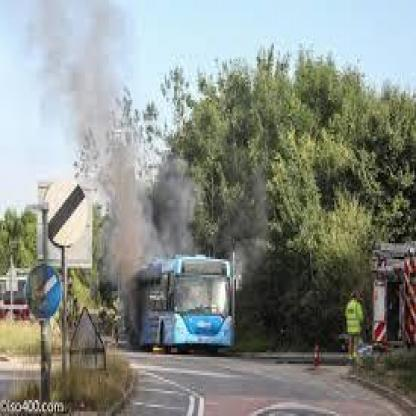smoke: (98, 134, 210, 276)
